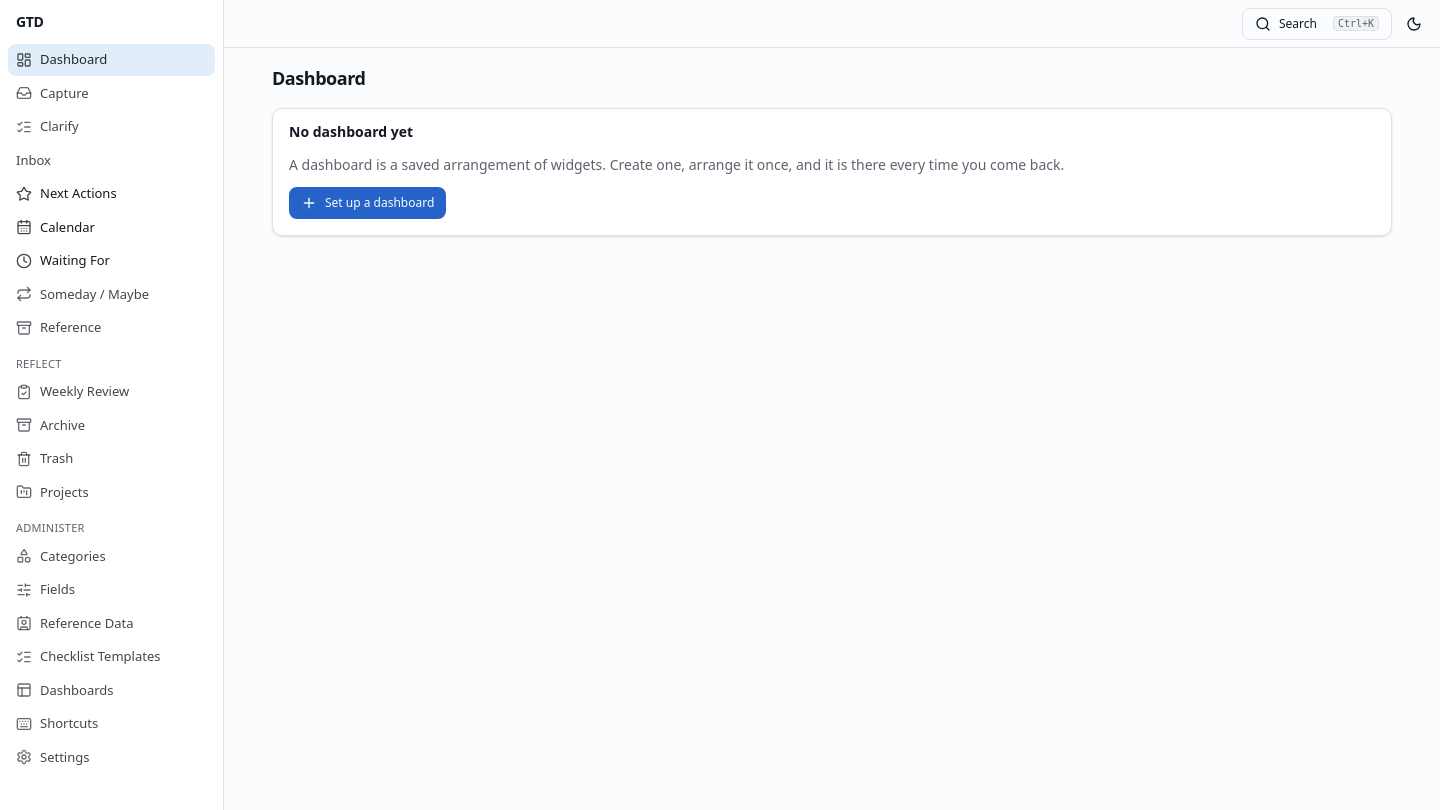
Test case: the palette shortcut › opens from the search button too
Click the button "Search Ctrl+K": (1317, 24) [1242,8,1392,40]
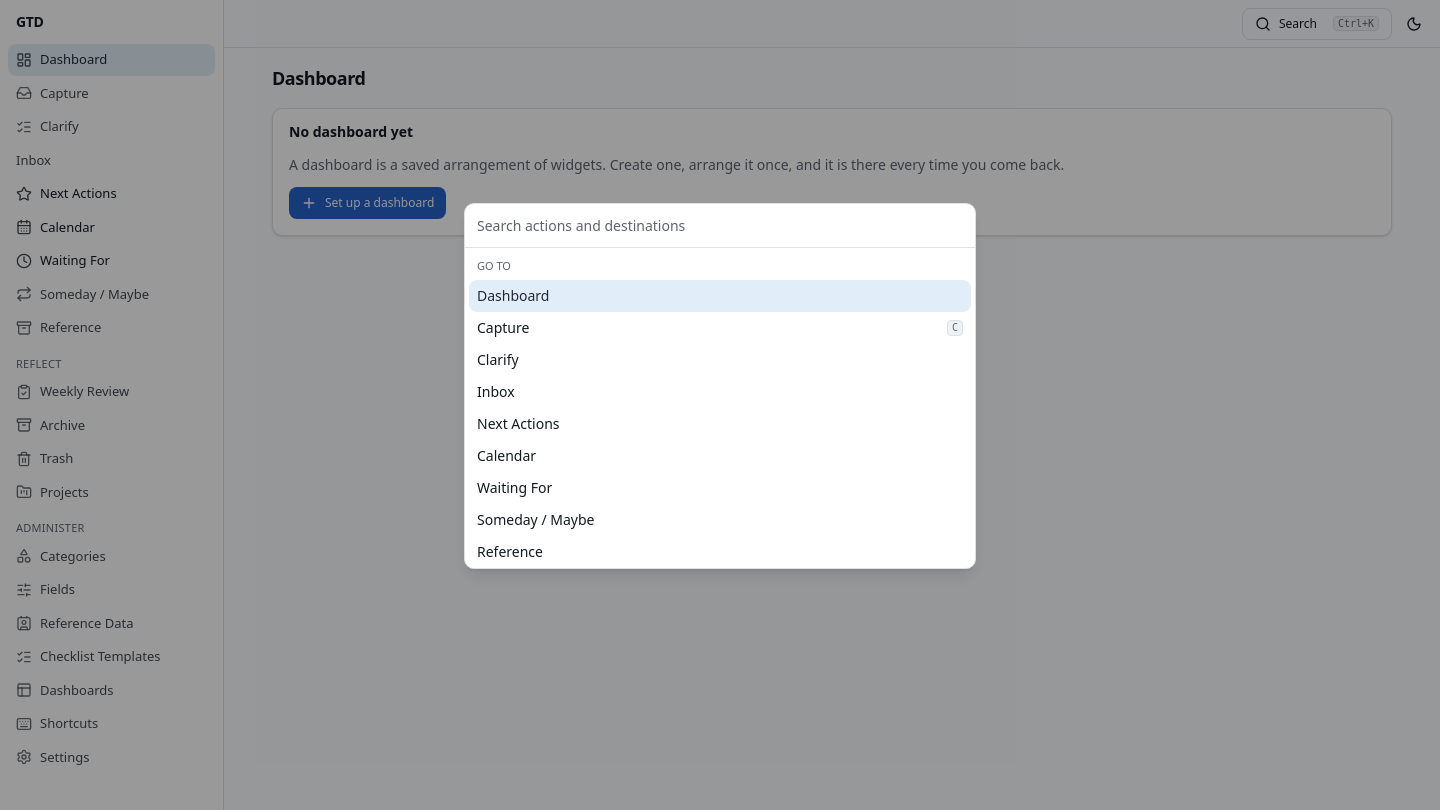
Check: the dropdown with placeholder "Search actions and destinations" is shown, box [465,204,975,248]
